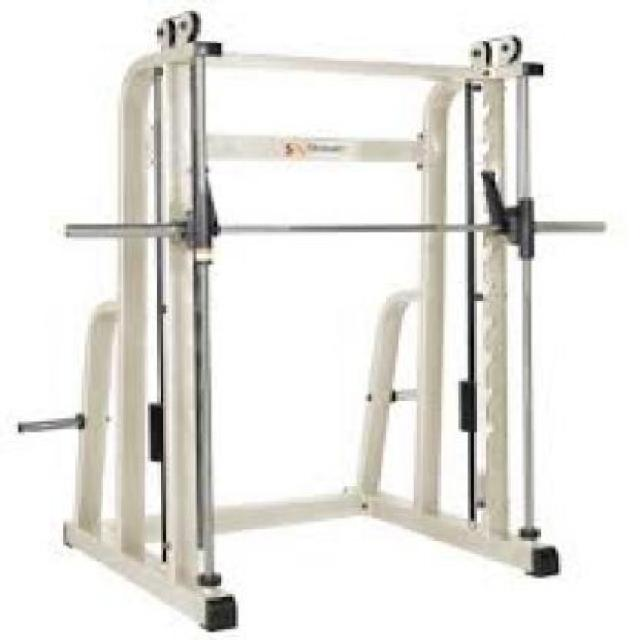smith machine: (20, 11, 605, 634)
